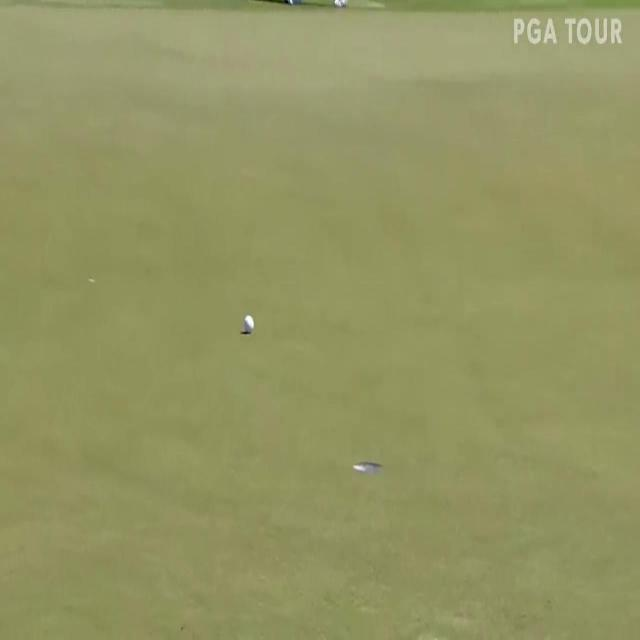GolfBall: (234, 304, 260, 340)
